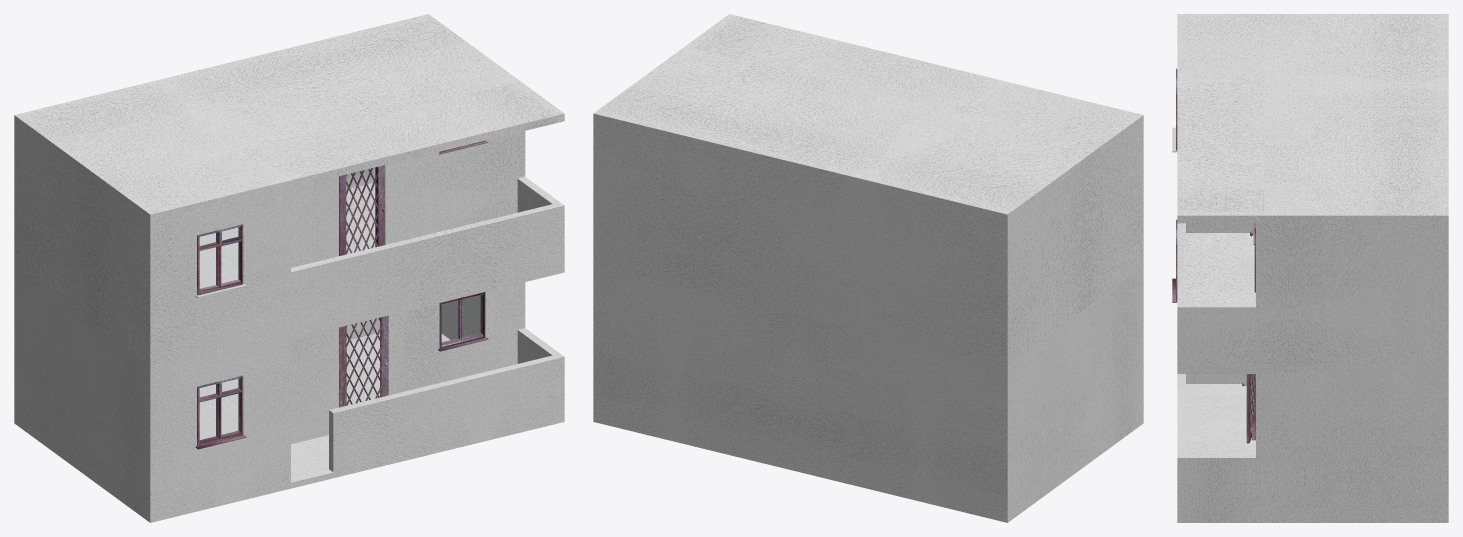
The model's file is Favela two story export.fbx.
3 renders of one model, left to right at view 1: azimuth 30°, elevation 25°; view 2: azimuth 150°, elevation 25°; view 3: azimuth 270°, elevation 25°, orthographic.
Parts seen in each view (by area): view 1: Top_house, pCube20, pCube75 (×2), pCube77, pCube26, Window, pCube16, window_2; view 2: Top_house, pCube20; view 3: Top_house, pCube20, pCube16.
Part boxes in pixels (x1=…): Top_house: x1=14, y1=14, x2=564, y2=369; pCube20: x1=14, y1=266, x2=564, y2=522; pCube75 (×2): x1=346, y1=167, x2=381, y2=405; pCube77: x1=339, y1=165, x2=385, y2=256; pCube26: x1=197, y1=224, x2=243, y2=295; Window: x1=197, y1=375, x2=243, y2=446; pCube16: x1=339, y1=315, x2=388, y2=407; window_2: x1=439, y1=292, x2=485, y2=348; Top_house: x1=593, y1=14, x2=1143, y2=371; pCube20: x1=593, y1=265, x2=1143, y2=522; Top_house: x1=1177, y1=14, x2=1448, y2=371; pCube20: x1=1177, y1=366, x2=1448, y2=522; pCube16: x1=1246, y1=374, x2=1255, y2=443.
Bounding box in the file's own units: 21.8 × 15.5 × 12.62.
